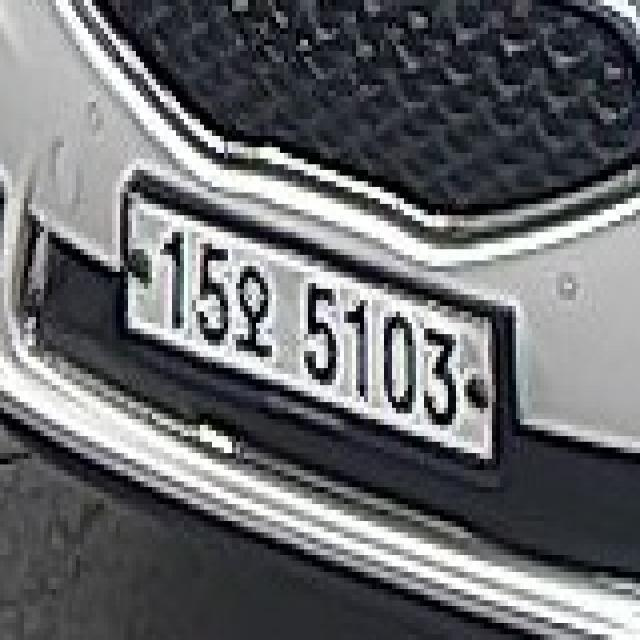0: (380, 300, 420, 425)
1: (156, 215, 192, 351), (344, 289, 372, 419)
3: (420, 317, 460, 448)
5: (296, 272, 340, 396), (192, 232, 232, 363)
license_plate: (112, 175, 524, 492)
o: (232, 249, 280, 380)
